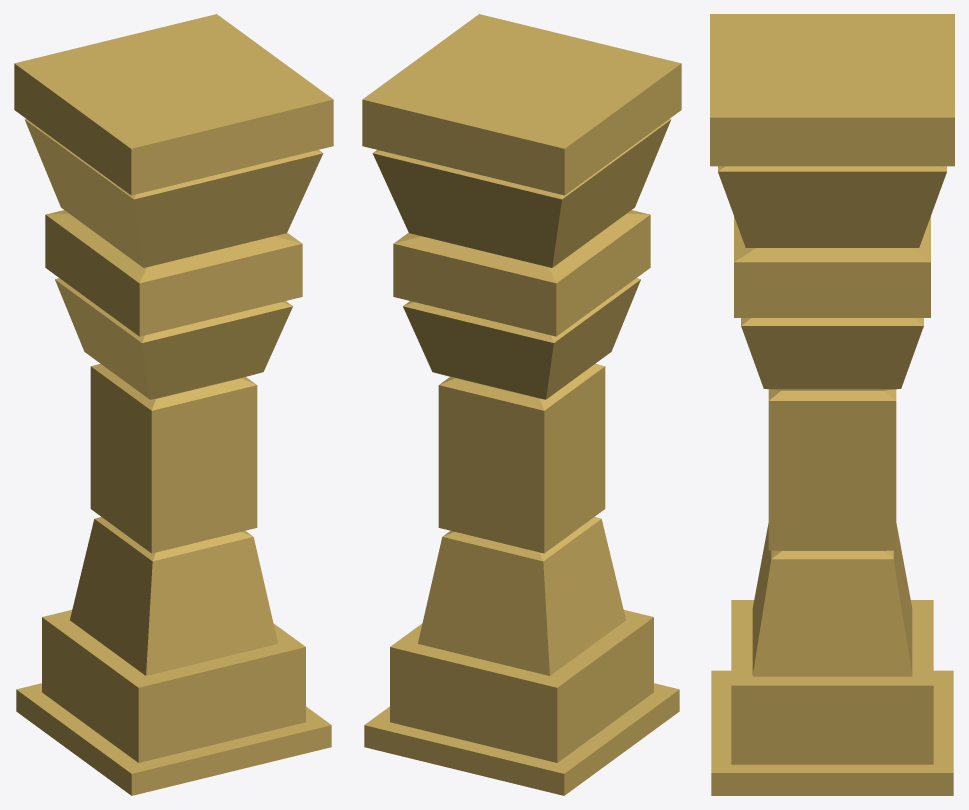
Rendered from Pillar1.fbx.
3 renders of one model, left to right at view 1: azimuth 30°, elevation 25°; view 2: azimuth 150°, elevation 25°; view 3: azimuth 270°, elevation 25°, orthographic. The views are drawn at different scales.
Parts seen in each view (by area): view 1: Pillar1; view 2: Pillar1; view 3: Pillar1.
Boxes of the visible parts, x1,y1,x2,y2 form: Pillar1: [14, 14, 333, 795]; Pillar1: [362, 14, 681, 795]; Pillar1: [710, 14, 954, 795].
Bounding box in the file's own units: 165 × 504 × 165.
